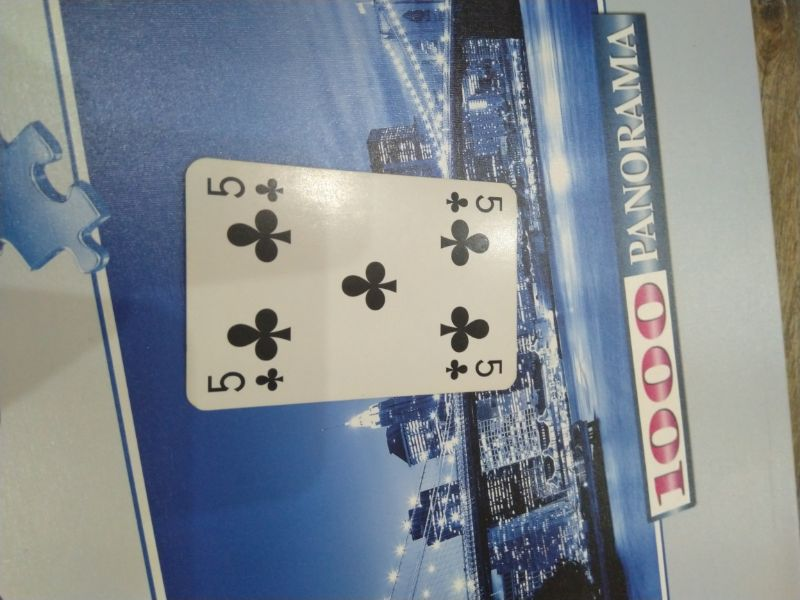5c: (201, 169, 288, 205), (204, 366, 285, 395), (440, 188, 506, 216), (444, 357, 506, 383)
